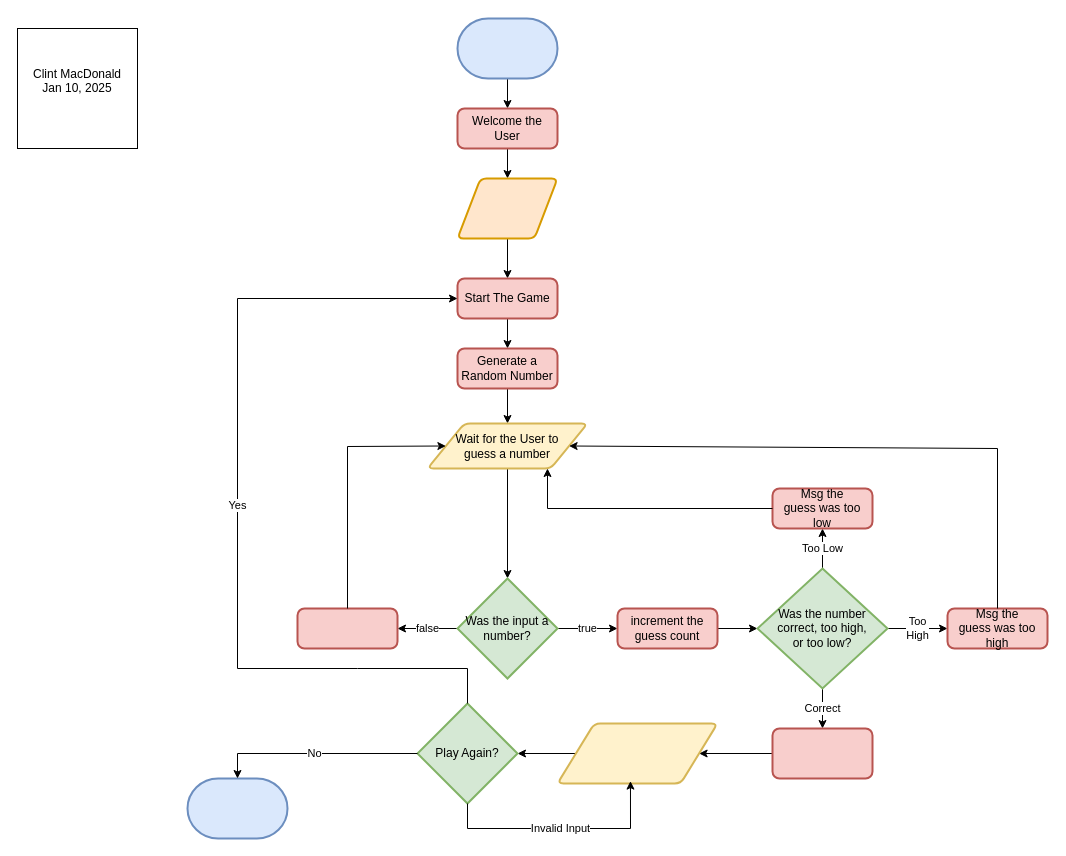
Some shapes in this 1066 by 856 pixel diagram are drawn without their labels. The box of each missing label's shape, as (x1, y1, x2, y2) in pixels:
Ask for the Users Name: (456, 177, 558, 239)
Ask if they want to play again?: (556, 722, 718, 784)
End Program: (186, 777, 288, 839)
Message winner and how many guesses it took: (771, 727, 873, 779)
Show error message to the user: (296, 607, 398, 649)
Start Program: (456, 17, 558, 79)
